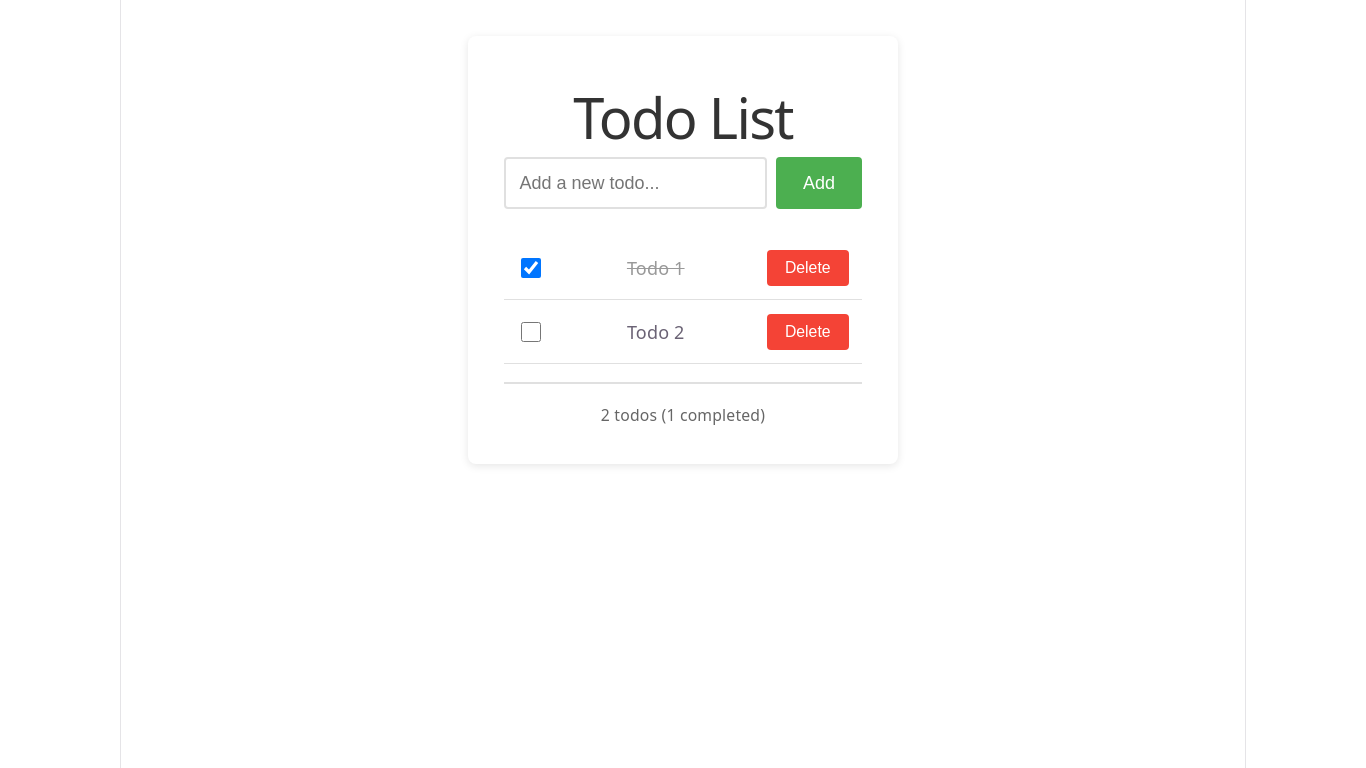
TodoList Component › Deleting Todos › updates count correctly after deletion
The width and height of the screenshot is (1366, 768).
Expected: the text with test id "todo-count" reads "2 todos (1 completed)", [504,382,862,428]
Click the button with test id "delete-button-1". click: (808, 268)
box: [767,250,848,286]
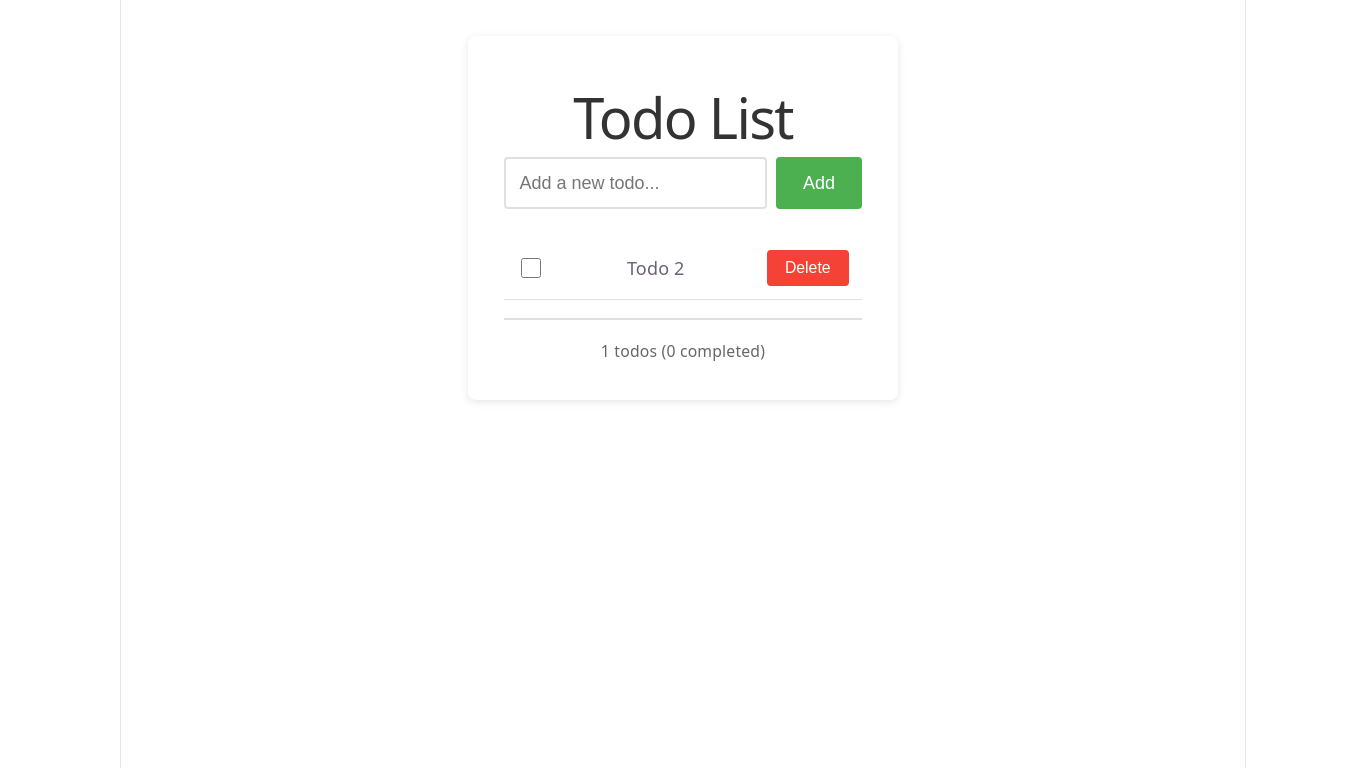
Expected: the text with test id "todo-count" reads "1 todos (0 completed)", [504,318,862,364]
